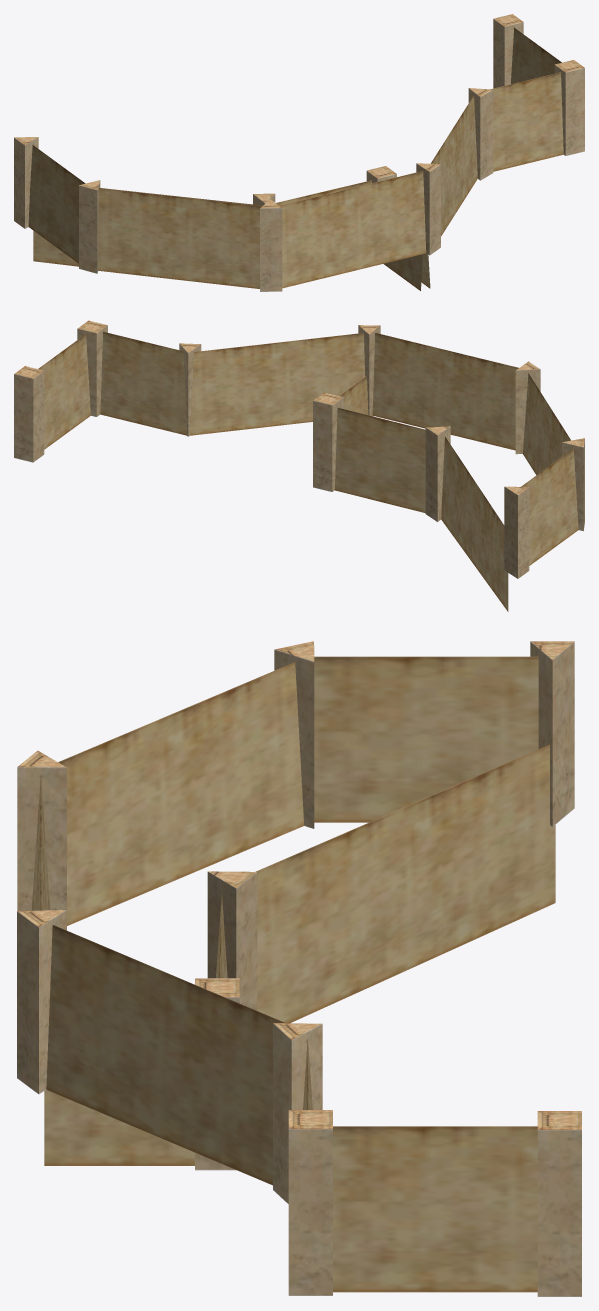
Rendered from poi_tato_corral_half_32x32_s02_l1.fbx.
The picture shows the model from 3 angles, top to bottom: view 1: azimuth 30°, elevation 25°; view 2: azimuth 150°, elevation 25°; view 3: azimuth 270°, elevation 25°; orthographic projection. The views are drawn at different scales.
Parts seen in each view (by area): view 1: mesh_node; view 2: mesh_node; view 3: mesh_node.
Part boxes in pixels (left/top/right/bottom): mesh_node: left=14, top=14, right=584, bottom=291; mesh_node: left=14, top=320, right=584, bottom=611; mesh_node: left=17, top=641, right=581, bottom=1296.
Size of the model in its own units: 26.02 by 6.15 by 12.71.
1 material, 1 textured.
